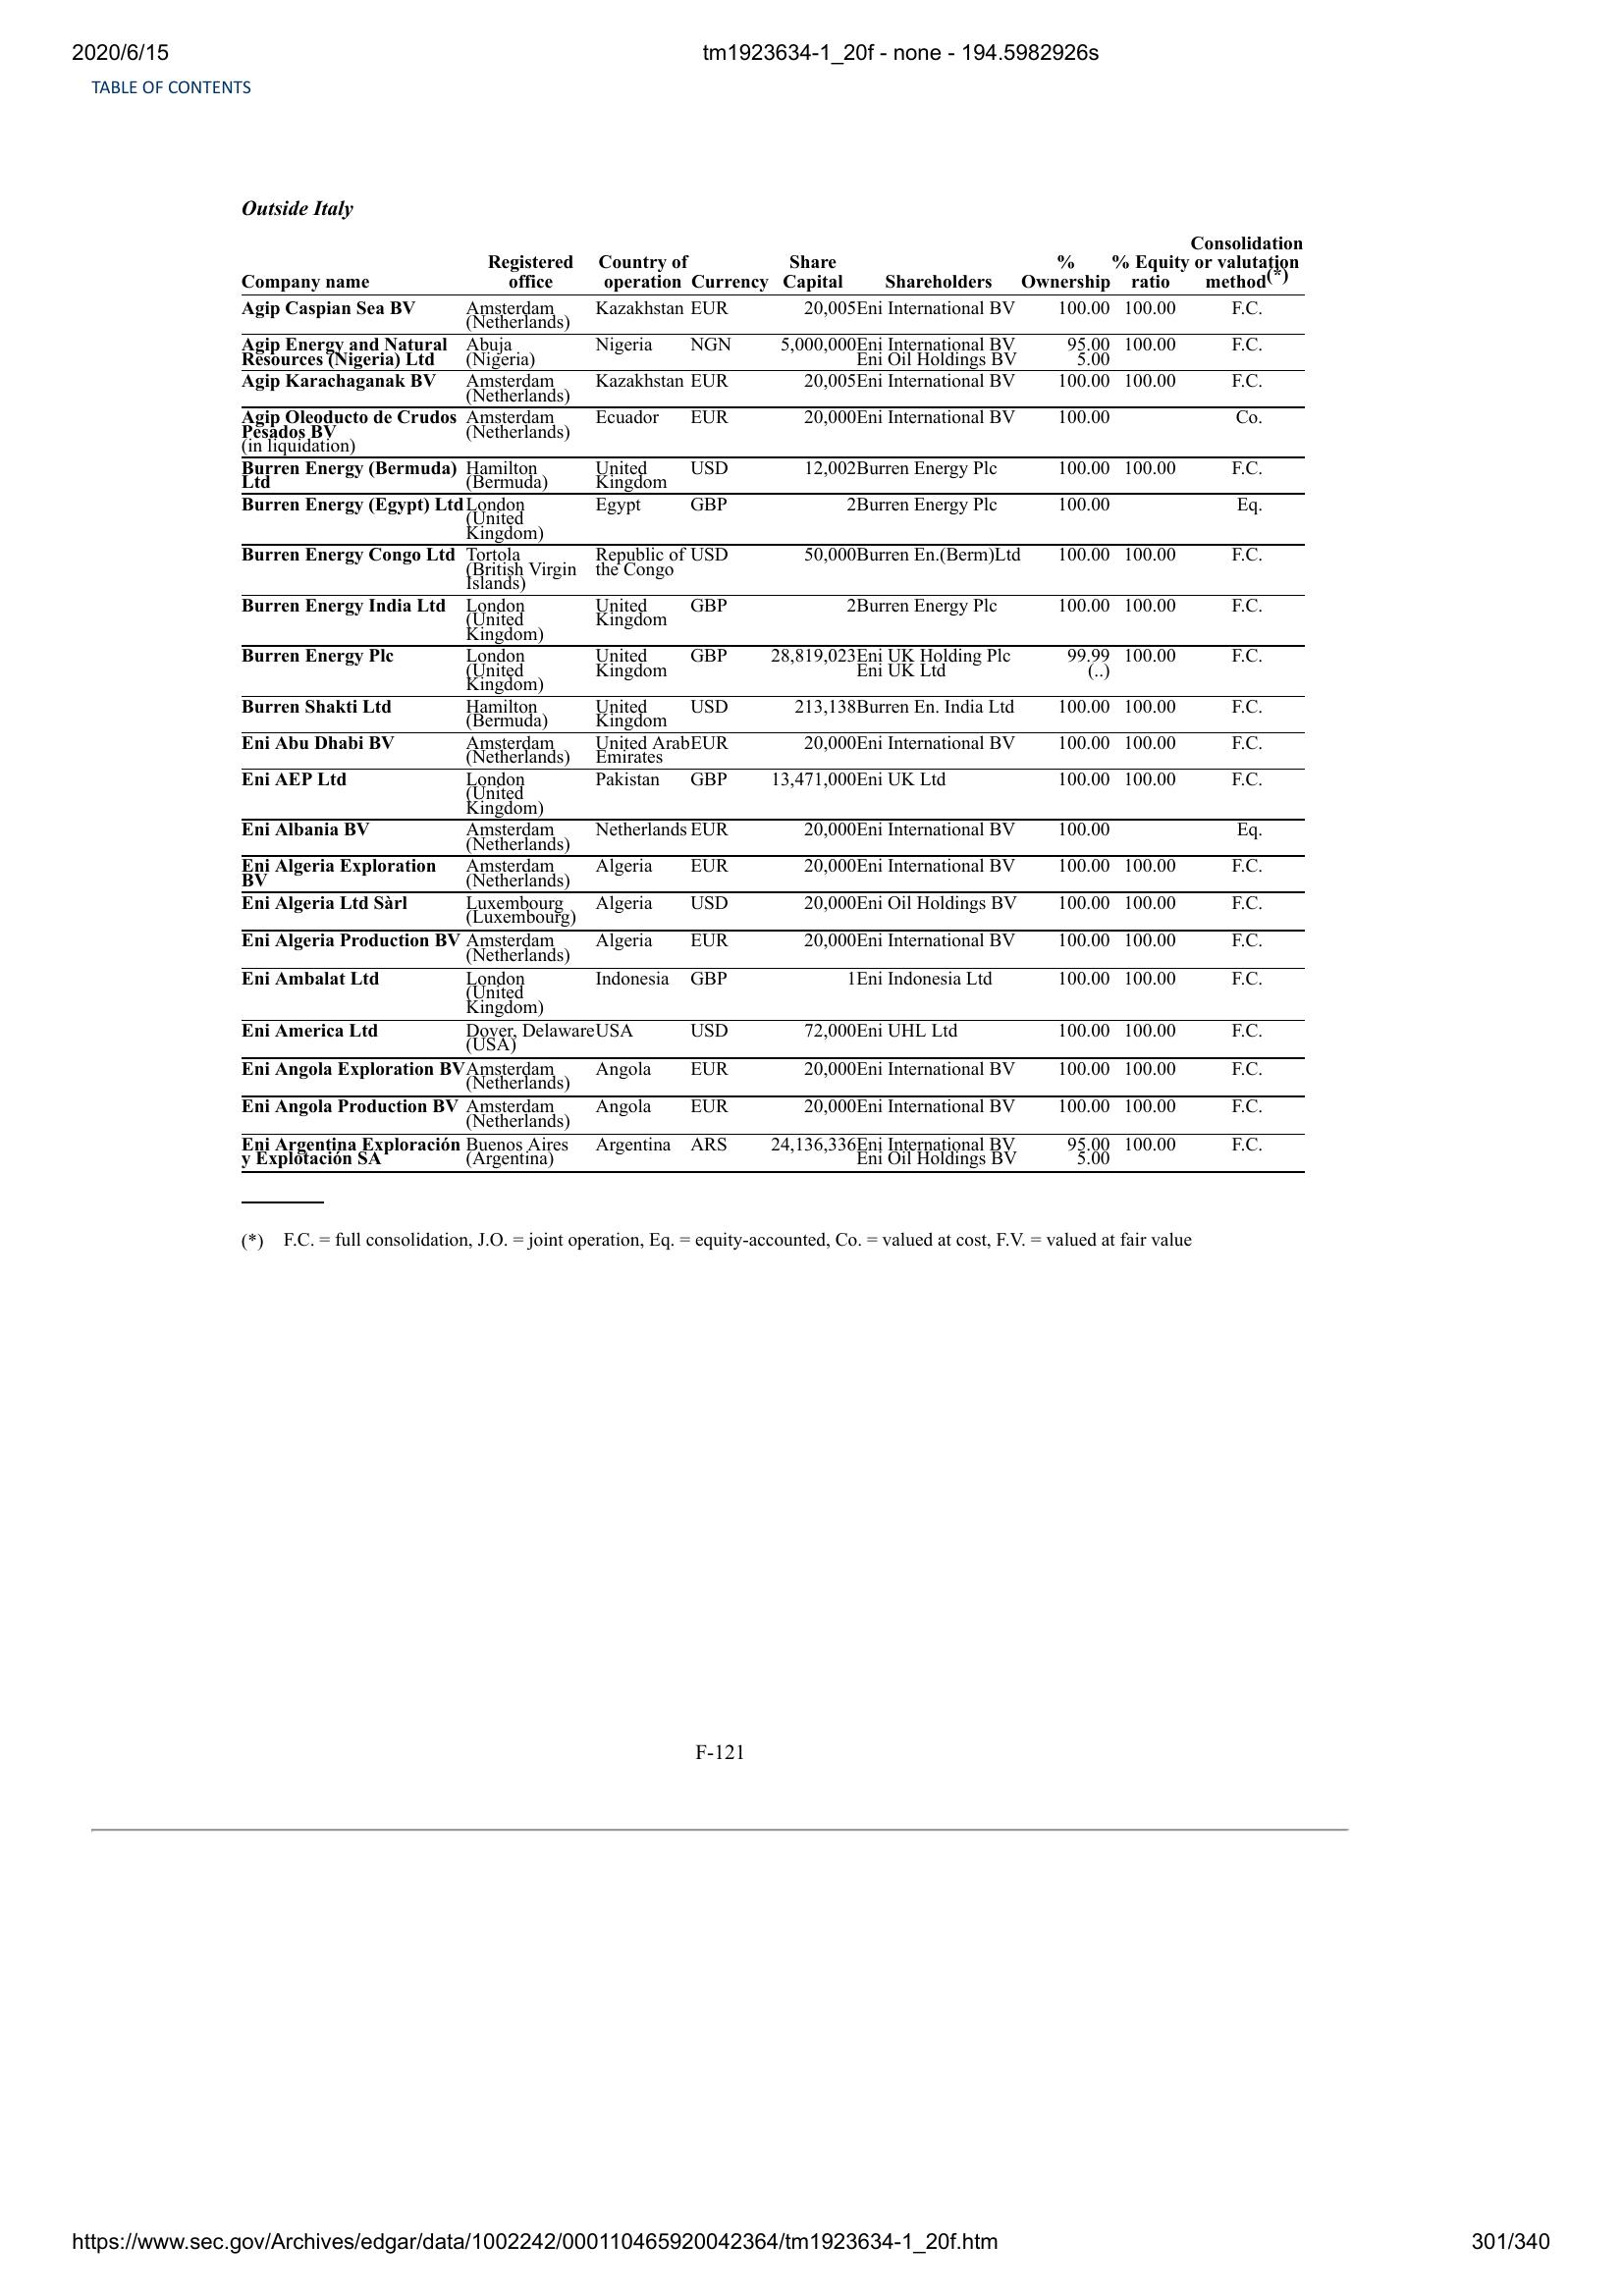table: (232, 228, 1310, 1180)
